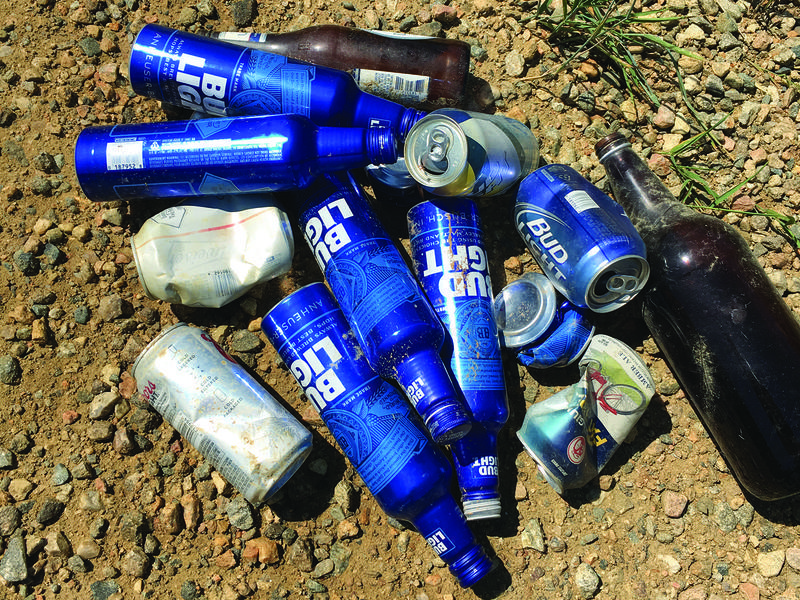bottle: (589, 133, 800, 506), (262, 280, 503, 592), (298, 188, 476, 444), (402, 197, 509, 525), (124, 22, 423, 128), (72, 108, 398, 205), (216, 17, 473, 106)
can: (129, 319, 316, 509), (515, 334, 657, 496), (514, 163, 651, 316), (130, 205, 297, 309), (404, 107, 542, 200), (491, 269, 598, 374)
